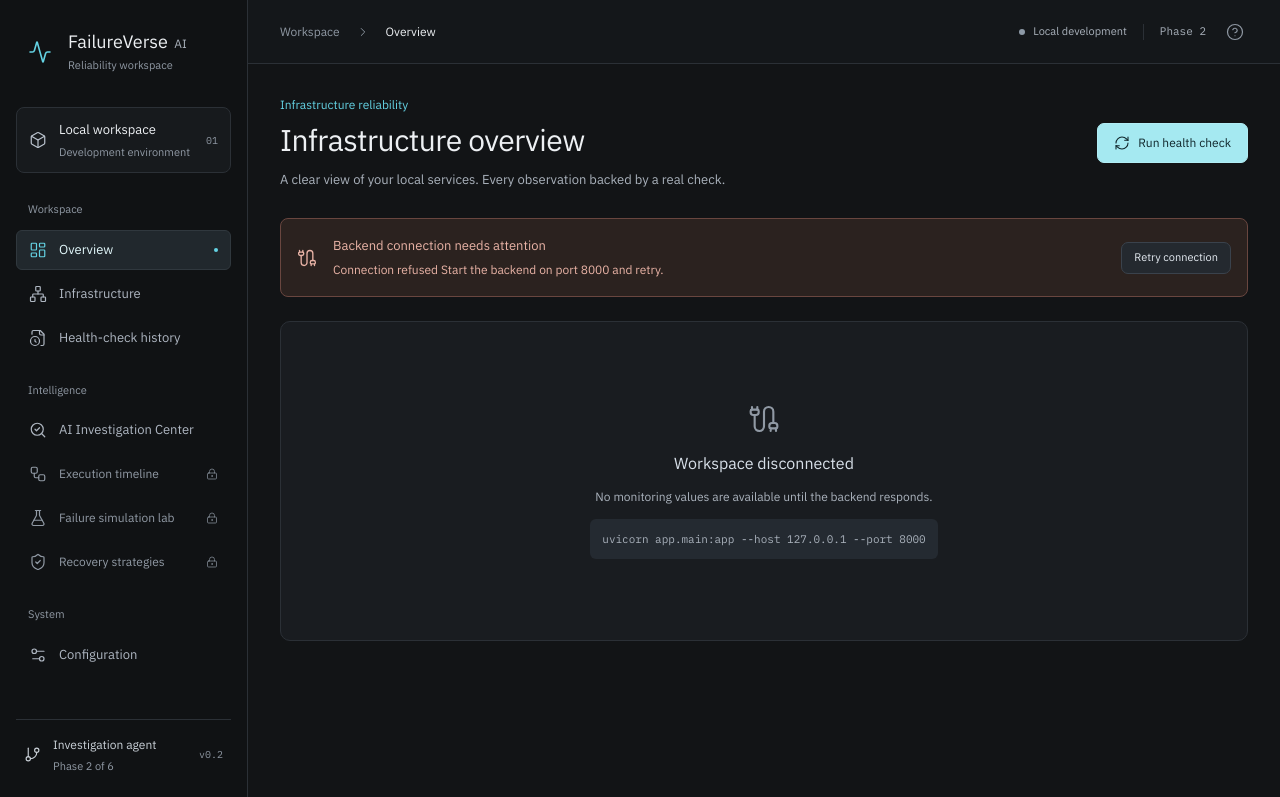
shows a disconnected state without fabricated metrics, then supports retry
The width and height of the screenshot is (1280, 797).
Expected: the heading "Workspace disconnected" is shown, [674,451,854,475]
Expected: the text "Services observed" is not shown
Click the button "Retry connection".
click(1176, 258)  # box [1121,242,1231,274]
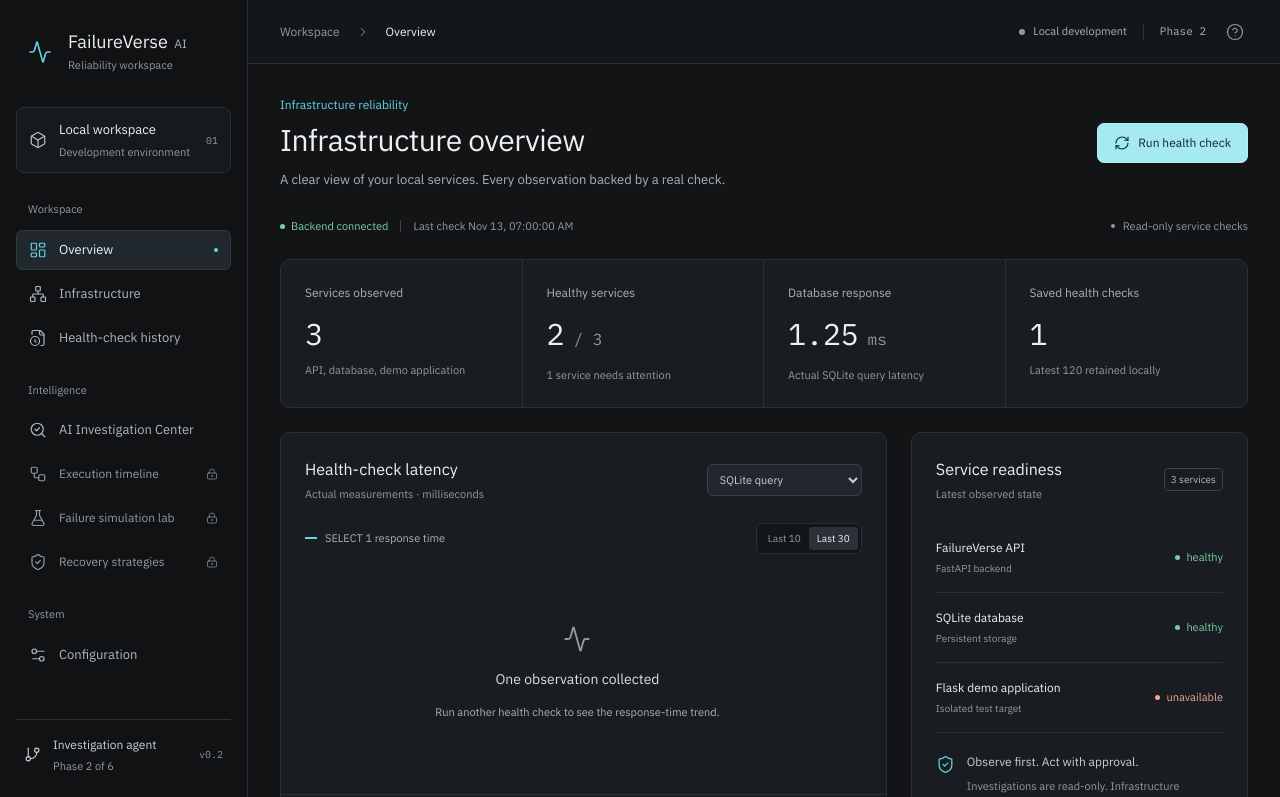
Now the text "Backend connected" is shown, box [280,218,388,234]
